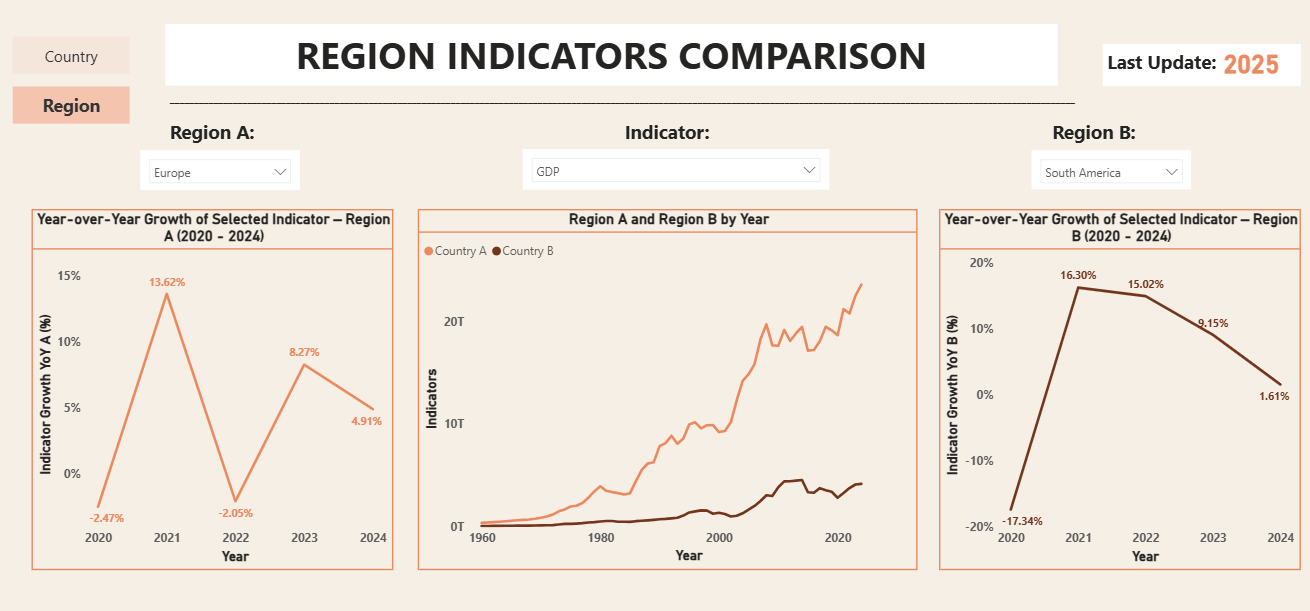

What the dashboard file says about the page in this screenshot:
{"tool":"powerbi","page":{"name":" Region Indicators Comparison","canvas":[1500,700],"ordinal":2},"visuals":[{"type":"textbox","box":[190,28.8,1020,70],"z":0},{"type":"textbox","box":[190,131.1,142.2,40],"z":1000},{"type":"textbox","box":[1261.1,51.1,226.7,47.8],"z":2000},{"type":"card","fields":{"Values":["#Measure Manager.Last Update"]},"box":[1362.2,51.1,137.8,42.2],"z":3000},{"type":"textbox","box":[1198.8,131.2,145,40],"z":4000},{"type":"textbox","box":[710,131.2,128.8,40],"z":5000},{"type":"slicer","fields":{"Values":["dim_country_A.region"]},"box":[161.1,173.3,182.2,45.6],"z":6000},{"type":"slicer","fields":{"Values":["dim_country_B.region"]},"box":[1180,172.5,182.5,45],"z":7000},{"type":"slicer","fields":{"Values":["Indicator.indicator_name"]},"box":[598.8,171.2,350,46.2],"z":8000},{"type":"lineChart","title":"Region A and Region B by Year","fields":{"Category":["global_indicators.Year"],"Y":["#Measure Manager.Indicator Value A","#Measure Manager.Indicator Value B"]},"box":[478.8,240,571.2,412.5],"z":9000},{"type":"lineChart","title":"Year-over-Year Growth of Selected Indicator – Region A (2020 - 2024)","fields":{"Category":["global_indicators.Year"],"Y":["#Measure Manager.Indicator Growth YoY A (%)"]},"box":[37.5,240,413.8,412.5],"z":10000},{"type":"lineChart","title":"Year-over-Year Growth of Selected Indicator – Region B (2020 - 2024)","fields":{"Category":["global_indicators.Year"],"Y":["#Measure Manager.Indicator Growth YoY B (%)"]},"box":[1073.8,240,413.8,412.5],"z":11000},{"type":"textbox","box":[178.8,98.8,1067.5,43.8],"z":12000},{"type":"shape","title":"Region","box":[15,100,133.8,42.5],"z":13000},{"type":"shape","box":[15,42.5,133.8,42.5],"z":14000}]}

Visuals, with their boxes in screenshot pixels (x1, y1, x2, y2), scaled from the page's 1500x700 canvas onto the 1310x611 screenshot:
textbox: select_region(166, 25, 1057, 86)
textbox: select_region(166, 114, 290, 149)
textbox: select_region(1101, 45, 1299, 86)
card - #Measure Manager.Last Update: select_region(1190, 45, 1309, 81)
textbox: select_region(1047, 115, 1174, 149)
textbox: select_region(620, 115, 733, 149)
slicer - dim_country_A.region: select_region(141, 151, 300, 191)
slicer - dim_country_B.region: select_region(1031, 151, 1190, 190)
slicer - Indicator.indicator_name: select_region(523, 149, 829, 190)
"Region A and Region B by Year" lineChart: select_region(418, 209, 917, 570)
"Year-over-Year Growth of Selected Indicator – Region A (2020 - 2024)" lineChart: select_region(33, 209, 394, 570)
"Year-over-Year Growth of Selected Indicator – Region B (2020 - 2024)" lineChart: select_region(938, 209, 1299, 570)
textbox: select_region(156, 86, 1088, 124)
"Region" shape: select_region(13, 87, 130, 124)
shape: select_region(13, 37, 130, 74)
